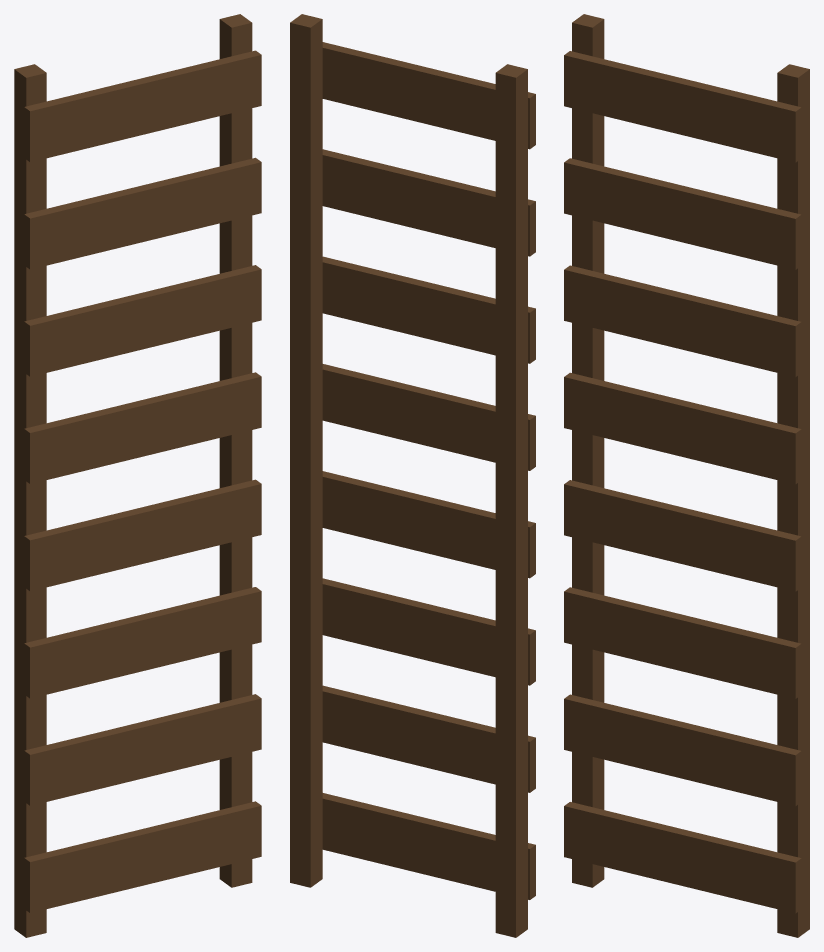
File: egypt-egypt-ladder.glb
The picture shows the model from 3 angles, left to right: view 1: azimuth 30°, elevation 25°; view 2: azimuth 150°, elevation 25°; view 3: azimuth 330°, elevation 25°; orthographic projection.
Visible parts, largest first — view 1: egypt-ladder; view 2: egypt-ladder; view 3: egypt-ladder.
Boxes of the visible parts, <box> form: egypt-ladder: <box>14,14,261,937</box>; egypt-ladder: <box>290,14,535,937</box>; egypt-ladder: <box>564,14,809,937</box>.
Bounding box in the file's own units: 1.13 × 4 × 0.1501.
